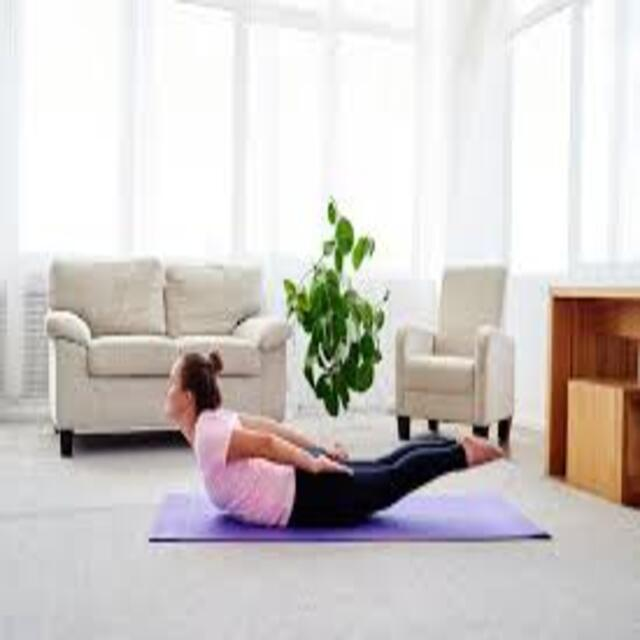Locust_Pose: (160, 350, 509, 528)
